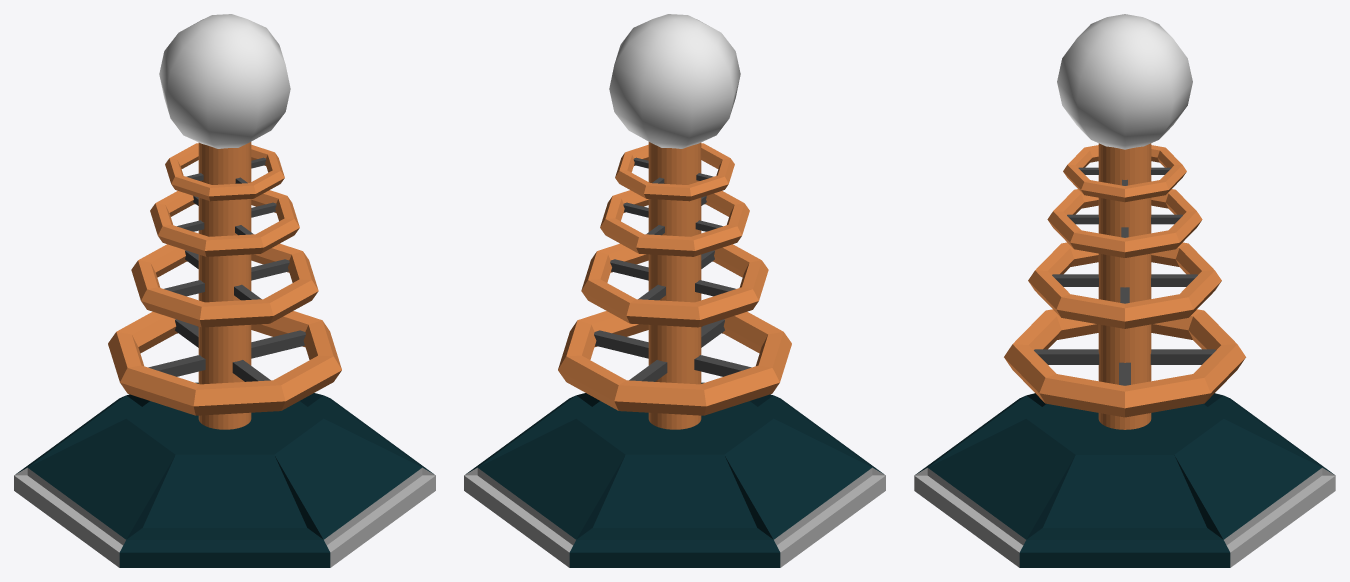
The model's file is TeslaTowerAfterJoin.fbx.
3 renders of one model, left to right at view 1: azimuth 30°, elevation 25°; view 2: azimuth 150°, elevation 25°; view 3: azimuth 270°, elevation 25°, orthographic.
Parts seen in each view (by area): view 1: Cylinder, Base; view 2: Cylinder, Base; view 3: Cylinder, Base.
Boxes of the visible parts, x1,y1,x2,y2 form: Cylinder: (108,14,341,429); Base: (14,382,435,567); Cylinder: (558,14,791,429); Base: (464,382,885,567); Cylinder: (1004,14,1245,429); Base: (914,393,1335,567).
Size of the model in its own units: 173 by 246 by 200.
